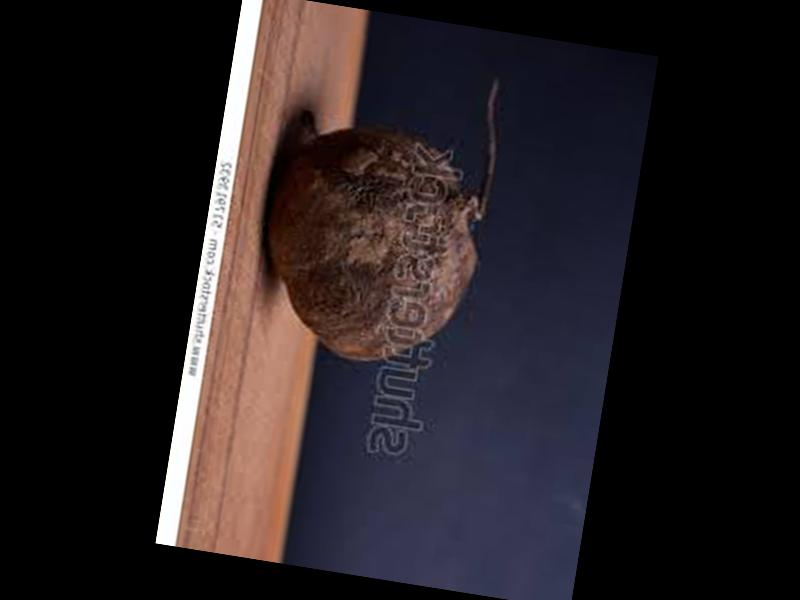Beet: (250, 43, 510, 376)
